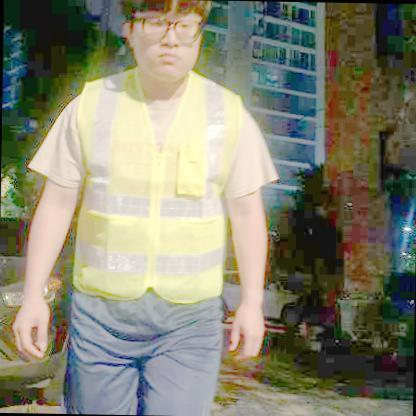no-helmet: (121, 0, 214, 39)
vest: (72, 62, 244, 305)
